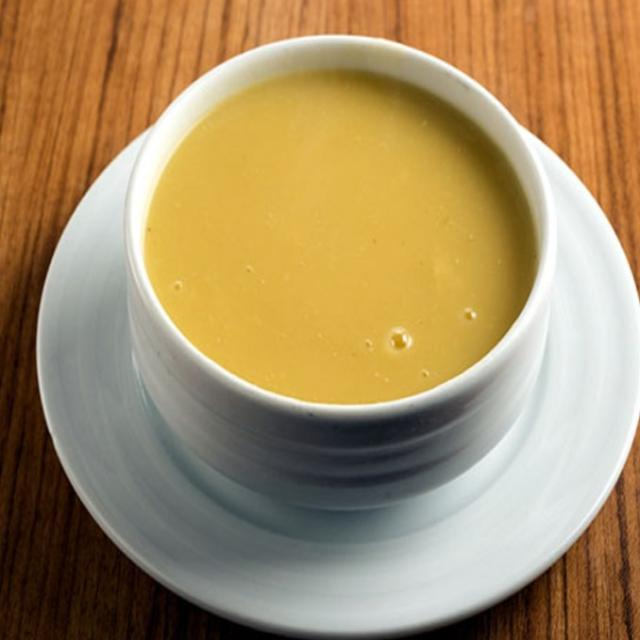corba: (91, 20, 558, 471)
